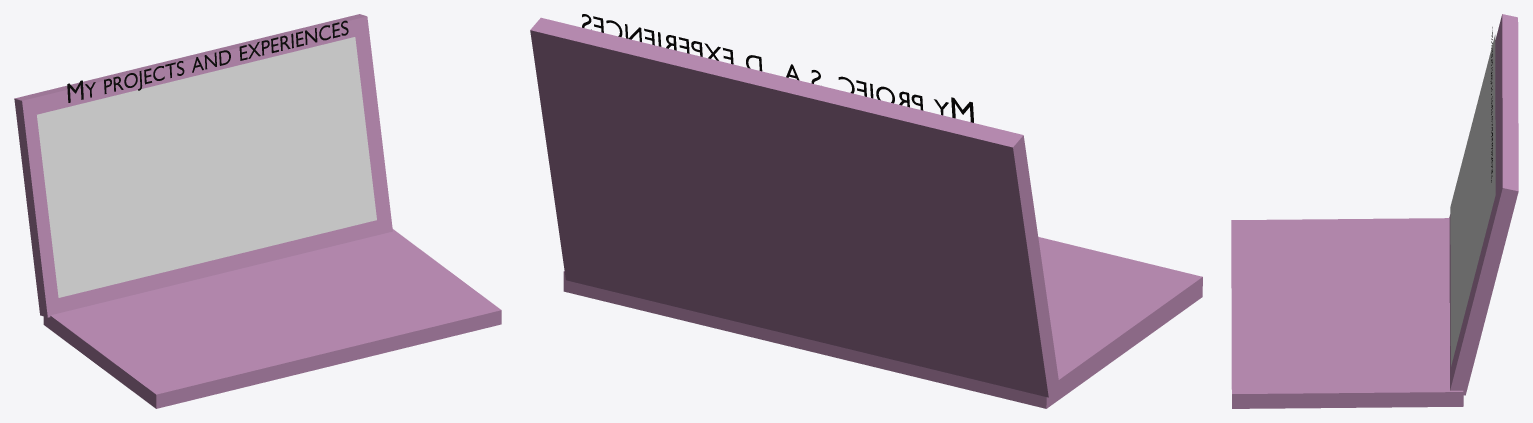
Rendered from projects1.glb.
3 views of the same model, side by side, from view 1: azimuth 30°, elevation 25°; view 2: azimuth 150°, elevation 25°; view 3: azimuth 270°, elevation 25° (orthographic). The views are drawn at different scales.
Parts seen in each view (by area): view 1: laptopscreen, laptop.001, laptop.002, projandexp; view 2: laptop.002, laptop.001, projandexp; view 3: laptop.001, laptop.002, laptopscreen.
Boxes of the visible parts, bbox=[...] form: laptopscreen: bbox=[37, 37, 376, 297]; laptop.001: bbox=[43, 229, 501, 408]; laptop.002: bbox=[14, 14, 392, 317]; projandexp: bbox=[67, 20, 348, 102]; laptop.002: bbox=[530, 17, 1059, 397]; laptop.001: bbox=[563, 237, 1202, 408]; projandexp: bbox=[582, 14, 973, 122]; laptop.001: bbox=[1231, 218, 1463, 408]; laptop.002: bbox=[1449, 14, 1518, 395]; laptopscreen: bbox=[1450, 35, 1495, 366].
Size of the model in its own units: 8.07 by 4.93 by 5.59.
